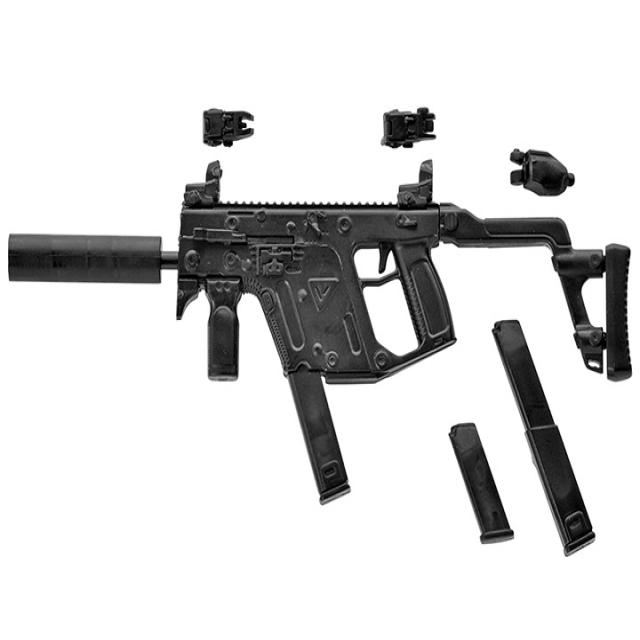SMG: (6, 162, 635, 507)
